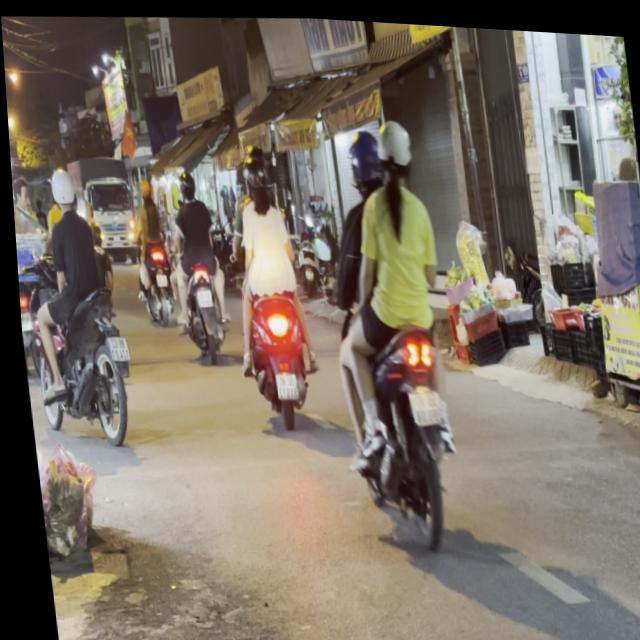helmet: (373, 111, 417, 183), (345, 121, 386, 195), (238, 151, 270, 205), (48, 165, 76, 212)
licenseplate: (307, 107, 469, 554), (11, 159, 136, 451), (215, 144, 322, 432)
nohelmet: (403, 382, 443, 420), (102, 333, 126, 360), (271, 368, 294, 396), (193, 286, 210, 306)
